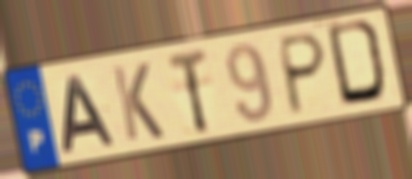9: (223, 40, 276, 126)
A: (60, 72, 119, 156)
D: (324, 16, 392, 109)
K: (109, 59, 168, 144)
P: (277, 30, 330, 119)
T: (164, 45, 211, 138)
